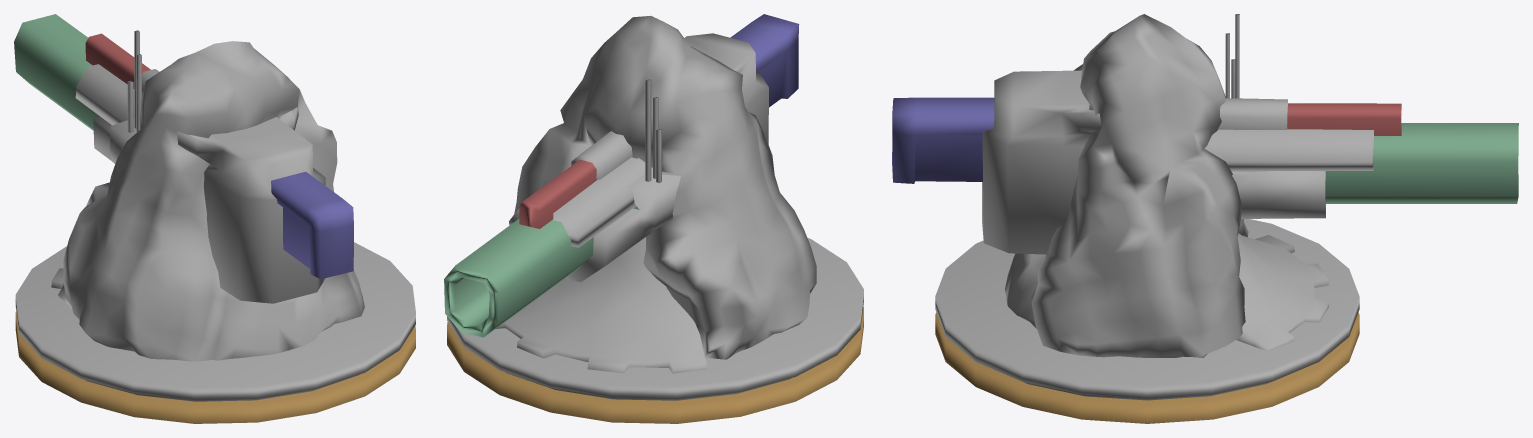
The model's file is Penetrator.fbx.
The picture shows the model from 3 angles, left to right: view 1: azimuth 30°, elevation 25°; view 2: azimuth 150°, elevation 25°; view 3: azimuth 270°, elevation 25°; orthographic projection. The views are drawn at different scales.
Visible parts, largest first — view 1: Cail_LD, Plate1_LD, Cha_LD, Plate2_LD, Charge_LD, Can_LD, Ca3_LD, Ca4_LD, Ca2_LD; view 2: Cail_LD, Plate1_LD, Plane_LD, Plate2_LD, Can_LD, Ca4_LD, Ca3_LD, Charge_LD, Cha_LD, Ca2_LD, Ca1_LD; view 3: Cail_LD, Plate1_LD, Cha_LD, Can_LD, Plate2_LD, Charge_LD, Plane_LD, Ca3_LD, Ca4_LD, Ca2_LD, Ca1_LD.
Part boxes in pixels (bbox=[...]): Cail_LD: bbox=[58, 41, 364, 361]; Plate1_LD: bbox=[15, 242, 415, 401]; Cha_LD: bbox=[177, 105, 325, 303]; Plate2_LD: bbox=[15, 311, 415, 423]; Charge_LD: bbox=[271, 171, 353, 279]; Can_LD: bbox=[14, 14, 99, 130]; Ca3_LD: bbox=[75, 64, 134, 125]; Ca4_LD: bbox=[93, 30, 141, 163]; Ca2_LD: bbox=[85, 33, 150, 88]; Cail_LD: bbox=[514, 16, 816, 359]; Plate1_LD: bbox=[447, 238, 863, 400]; Plane_LD: bbox=[496, 237, 706, 373]; Plate2_LD: bbox=[447, 307, 863, 423]; Can_LD: bbox=[444, 206, 639, 337]; Ca4_LD: bbox=[565, 79, 680, 282]; Ca3_LD: bbox=[509, 157, 652, 247]; Charge_LD: bbox=[730, 14, 799, 107]; Cha_LD: bbox=[684, 33, 768, 143]; Ca2_LD: bbox=[519, 159, 597, 228]; Ca1_LD: bbox=[571, 131, 632, 179]; Cail_LD: bbox=[1005, 14, 1248, 357]; Plate1_LD: bbox=[935, 219, 1359, 400]; Cha_LD: bbox=[982, 64, 1101, 254]; Can_LD: bbox=[1325, 123, 1518, 203]; Plate2_LD: bbox=[935, 312, 1359, 423]; Charge_LD: bbox=[892, 97, 994, 183]; Plane_LD: bbox=[1236, 233, 1328, 351]; Ca3_LD: bbox=[1204, 129, 1373, 171]; Ca4_LD: bbox=[1225, 14, 1325, 218]; Ca2_LD: bbox=[1287, 103, 1401, 135]; Ca1_LD: bbox=[1218, 98, 1287, 129].
Bounding box in the file's own units: 4.54 × 3.73 × 6.7.
